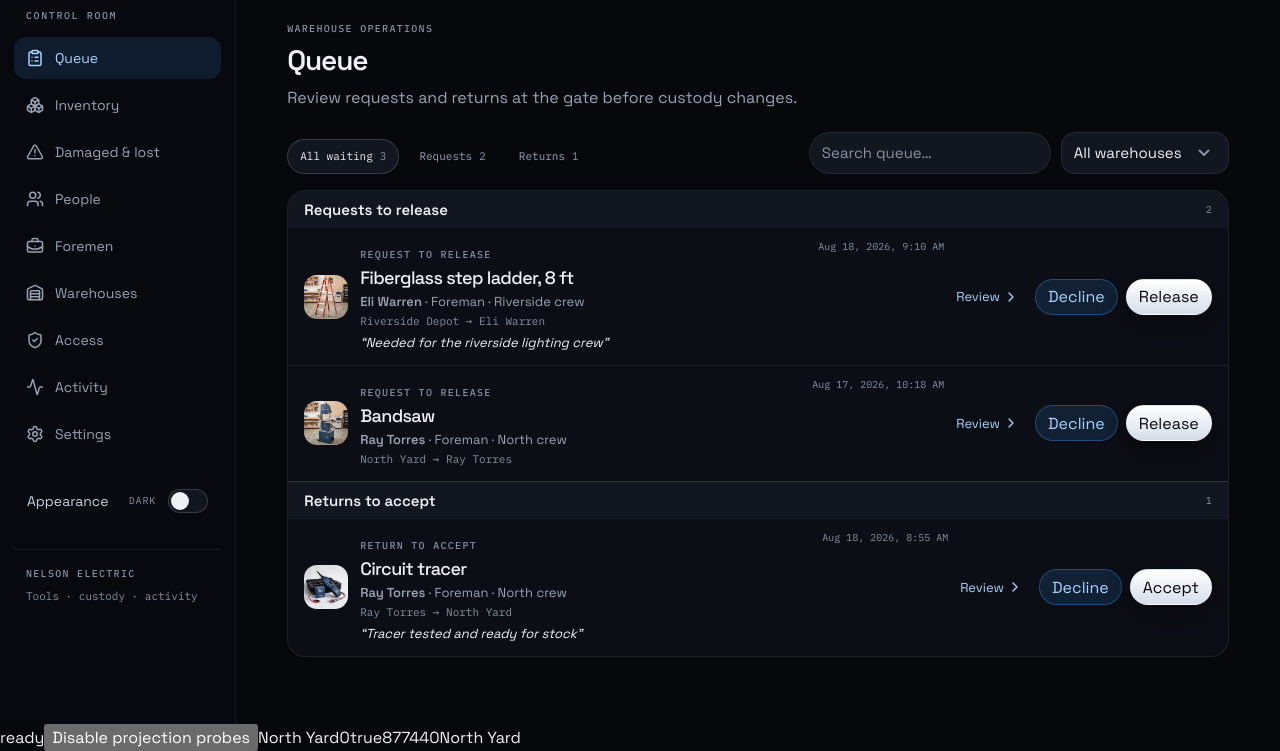
warehouse operations surfaces › refetches active and inactive warehouse projections after a decision
(page scrolled)
Expected: the heading "Queue" is shown, [287,42,368,78]
Expected: the text "ready" is shown, [0,727,44,748]
Click the button "Disable projection probes". click: (151, 738)
box: [44,724,258,750]
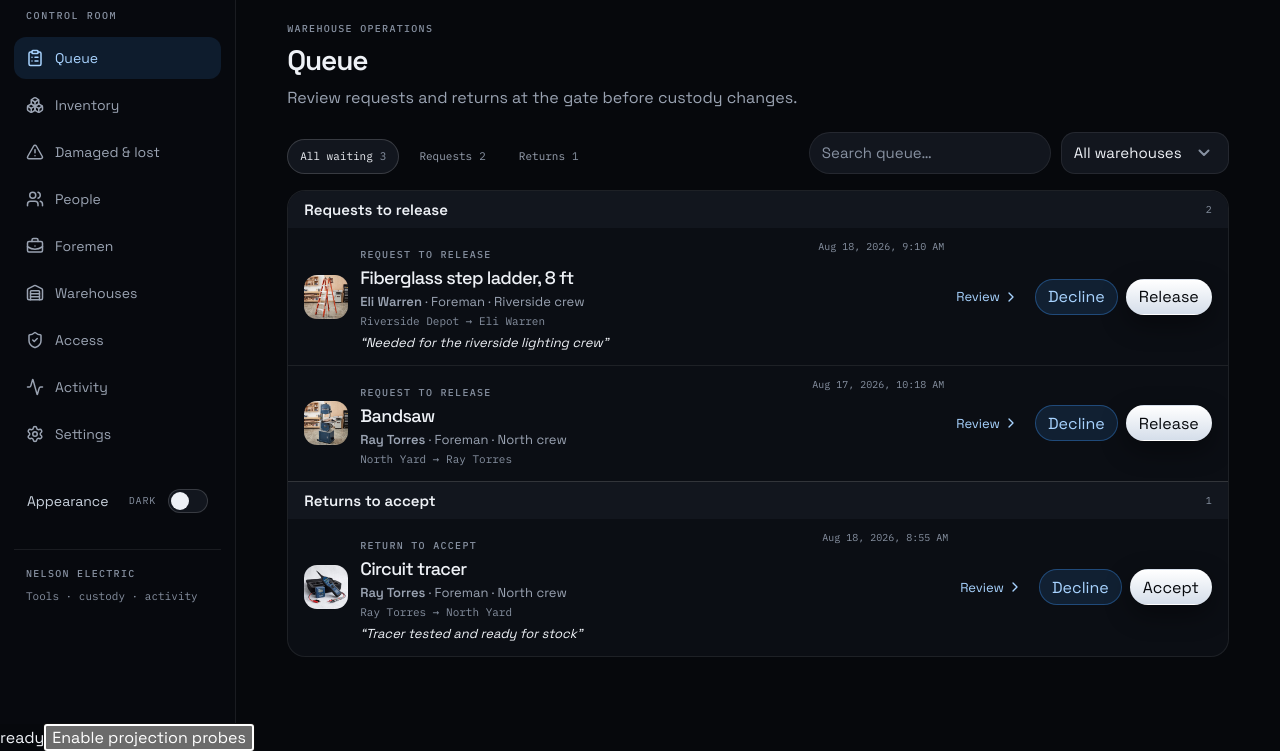
Expected: the element with test id "warehouse-projection-probe" is gone
Click the button with aria-label "Review request for Bandsaw". click: (326, 423)
box: [288,366,1035,481]
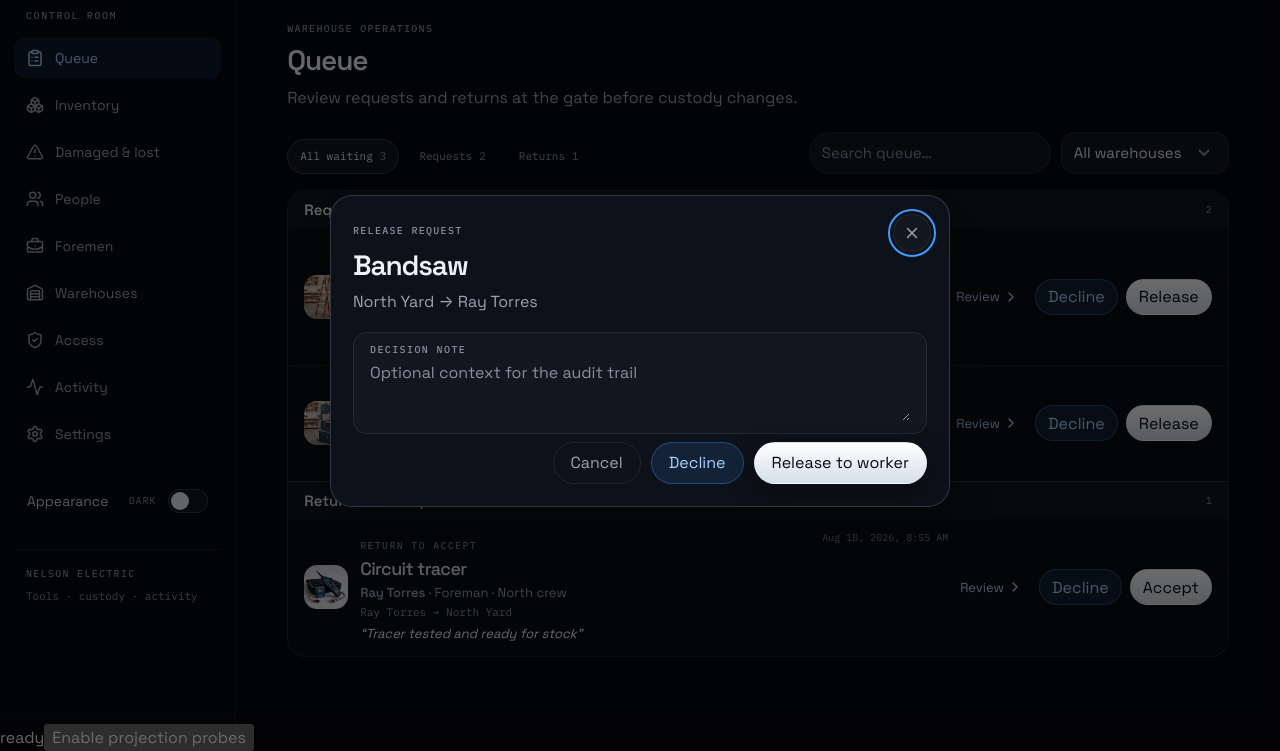
Click the button "Release to worker". click: (840, 463)
box: [754,442,927,484]
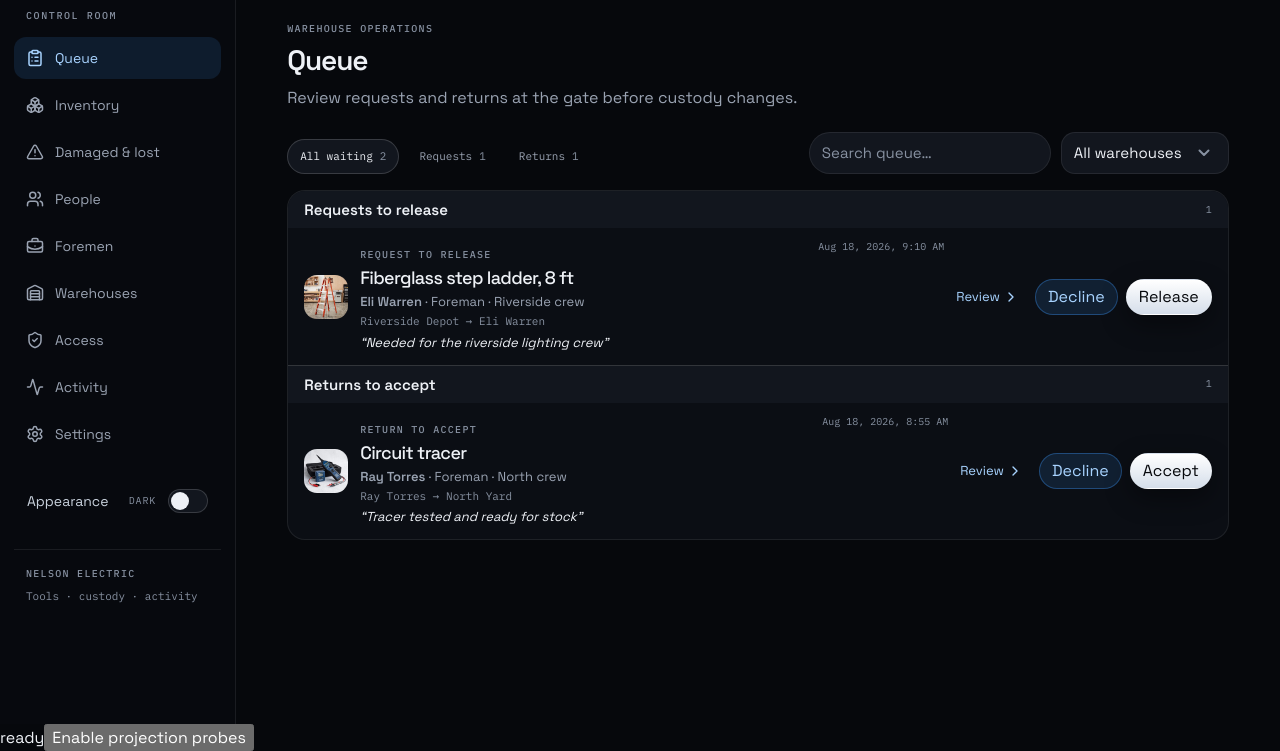
Click the button "Enable projection probes". click: (149, 738)
box: [44,724,254,750]
(page scrolled)
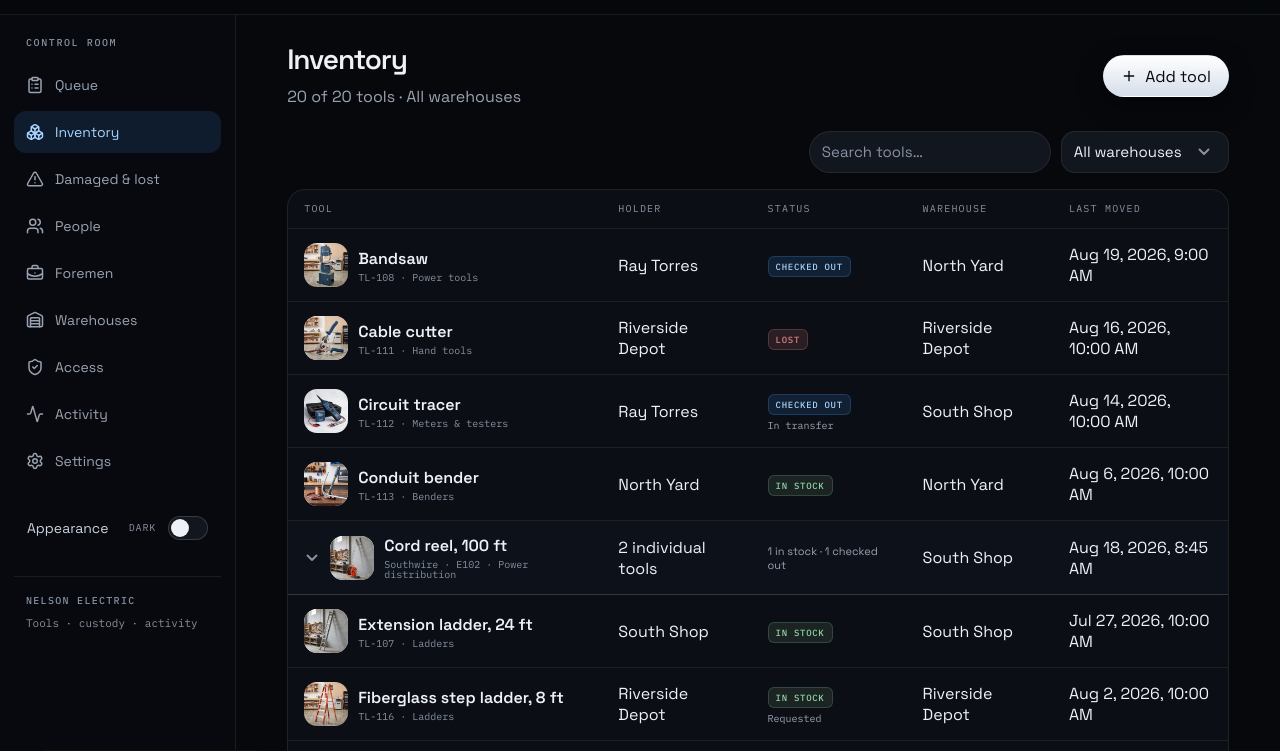
Expected: the heading "Inventory" is shown, [287,41,407,77]
Expected: the button "Bandsaw" shows "Ray Torres", [288,229,1228,302]
